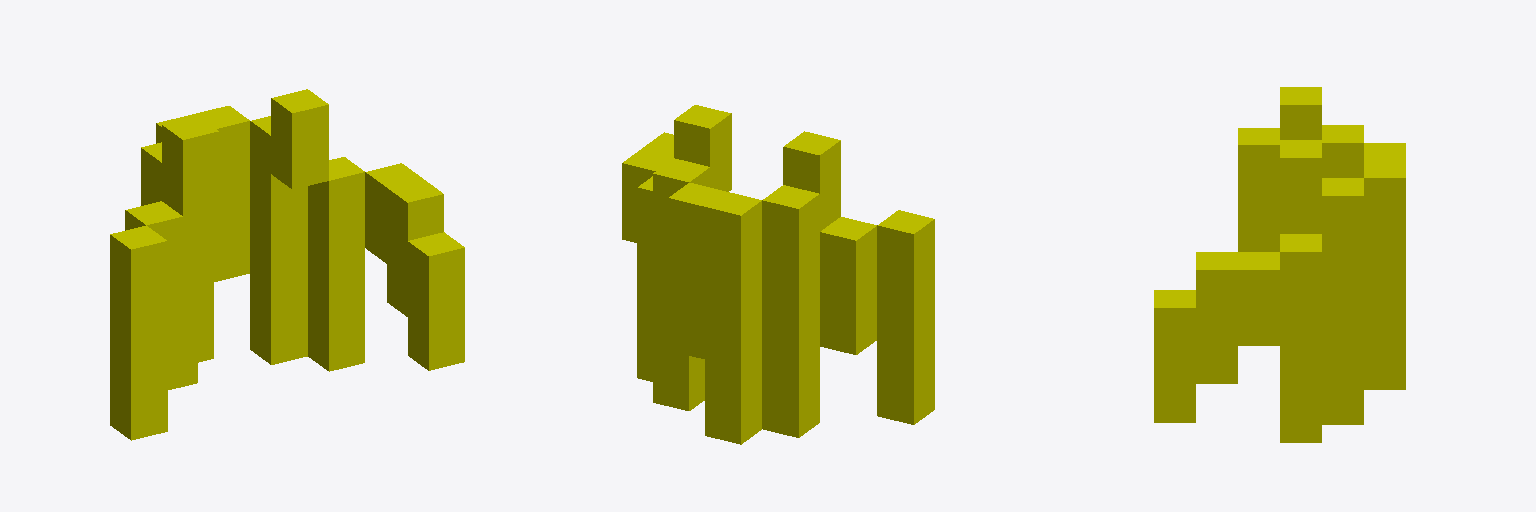
3 views of the same model, side by side, from view 1: azimuth 30°, elevation 25°; view 2: azimuth 150°, elevation 25°; view 3: azimuth 270°, elevation 25° (orthographic).
Parts seen in each view (by area): view 1: object 1; view 2: object 1; view 3: object 1.
Boxes of the visible parts, x1=… form: object 1: x1=110, y1=89, x2=464, y2=440; object 1: x1=622, y1=105, x2=934, y2=444; object 1: x1=1154, y1=87, x2=1405, y2=442.
Size of the model in its own units: 0.8 by 0.7 by 0.6.
1 materials, 1 textured.